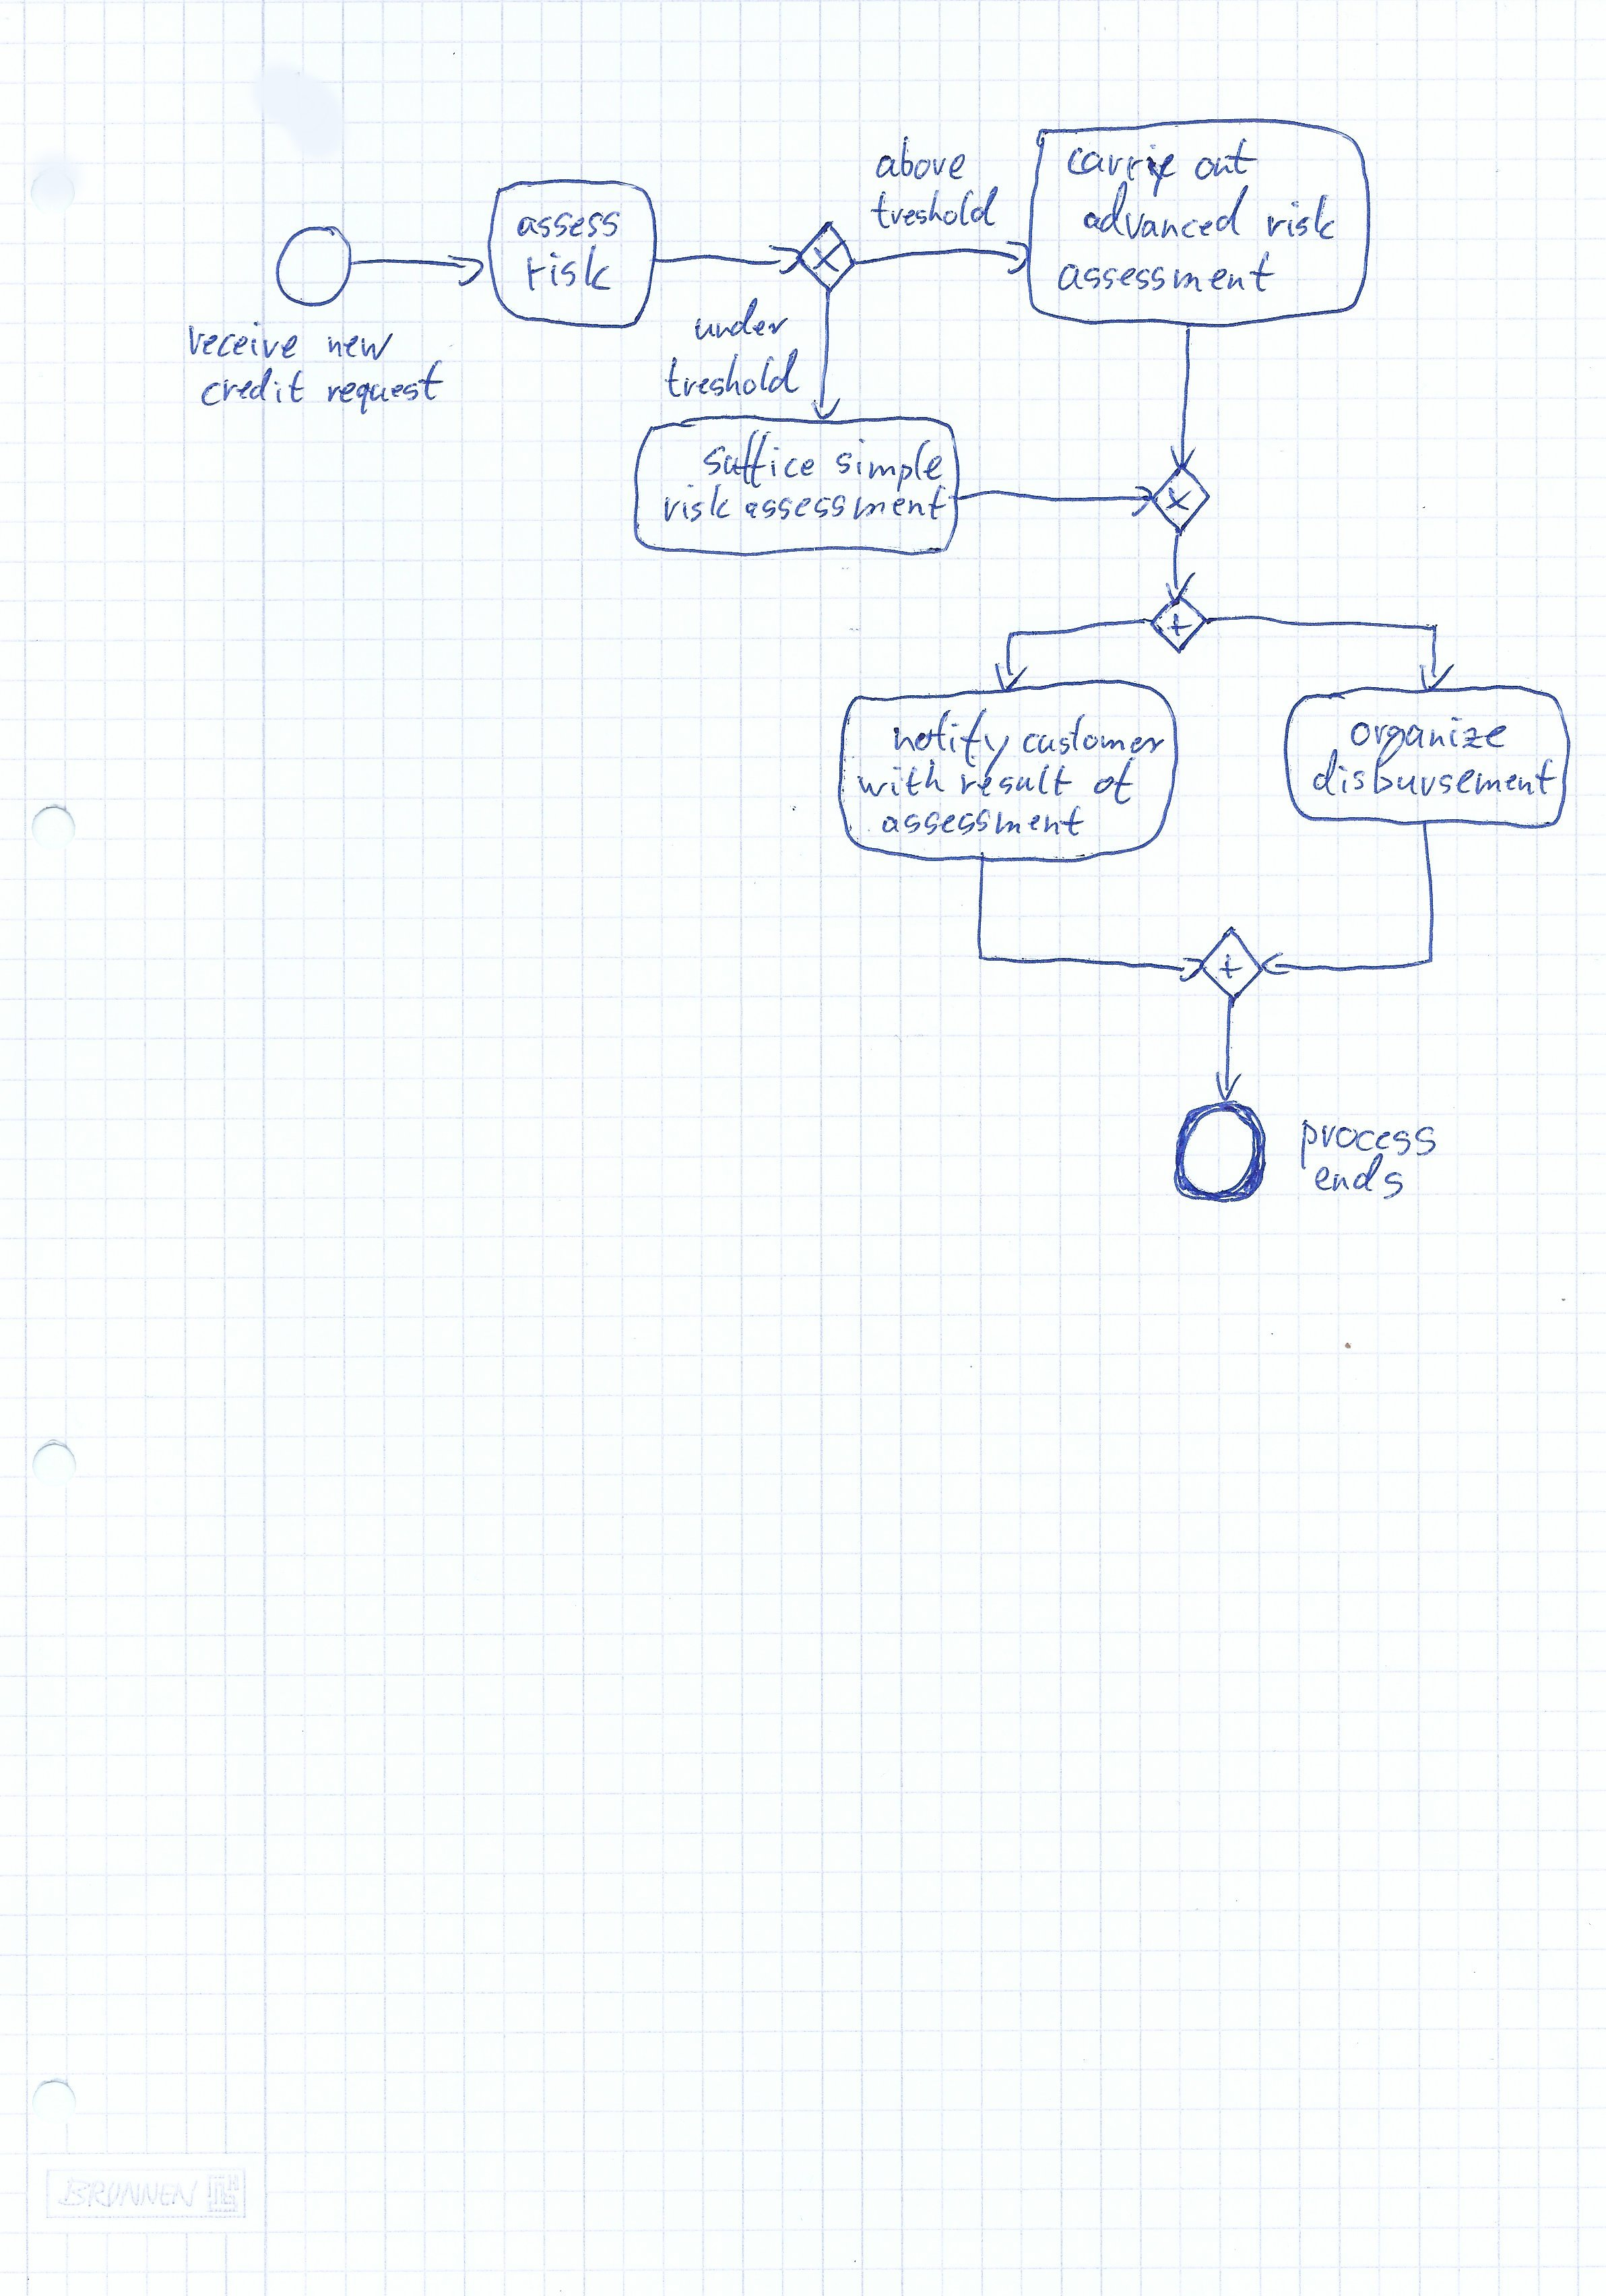above: (872, 133, 971, 183)
advanced: (1078, 178, 1254, 246)
assess: (513, 206, 623, 243)
assessment: (1053, 248, 1280, 298), (739, 482, 952, 525), (877, 803, 1093, 839)
carry: (1060, 143, 1181, 201)
credit: (197, 365, 309, 410)
customer: (1018, 710, 1168, 761)
disbursement: (1308, 747, 1561, 801)
ends: (1310, 1150, 1409, 1204)
new: (324, 328, 398, 365)
notify: (889, 705, 1013, 782)
of: (1090, 754, 1140, 808)
organize: (1344, 714, 1514, 771)
out: (1189, 136, 1262, 183)
process: (1296, 1117, 1440, 1172)
receive: (183, 316, 303, 361)
request: (323, 358, 450, 419)
result: (957, 761, 1078, 801)
risk: (520, 239, 616, 295), (1262, 190, 1341, 246), (659, 480, 736, 527)
simple: (830, 434, 947, 495)
suffice: (698, 426, 820, 492)
treshold: (661, 344, 804, 403), (868, 183, 1001, 232)
under: (691, 297, 793, 344)
with: (853, 754, 949, 803)
